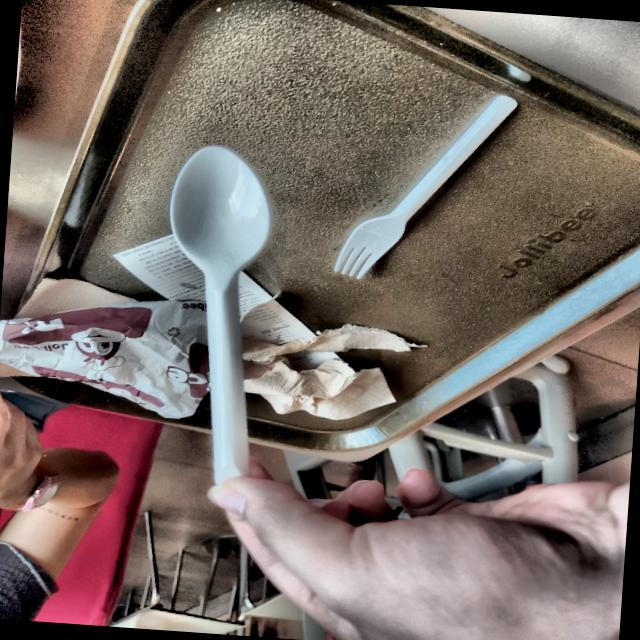plastic utensil: (169, 145, 270, 483), (335, 96, 516, 278)
